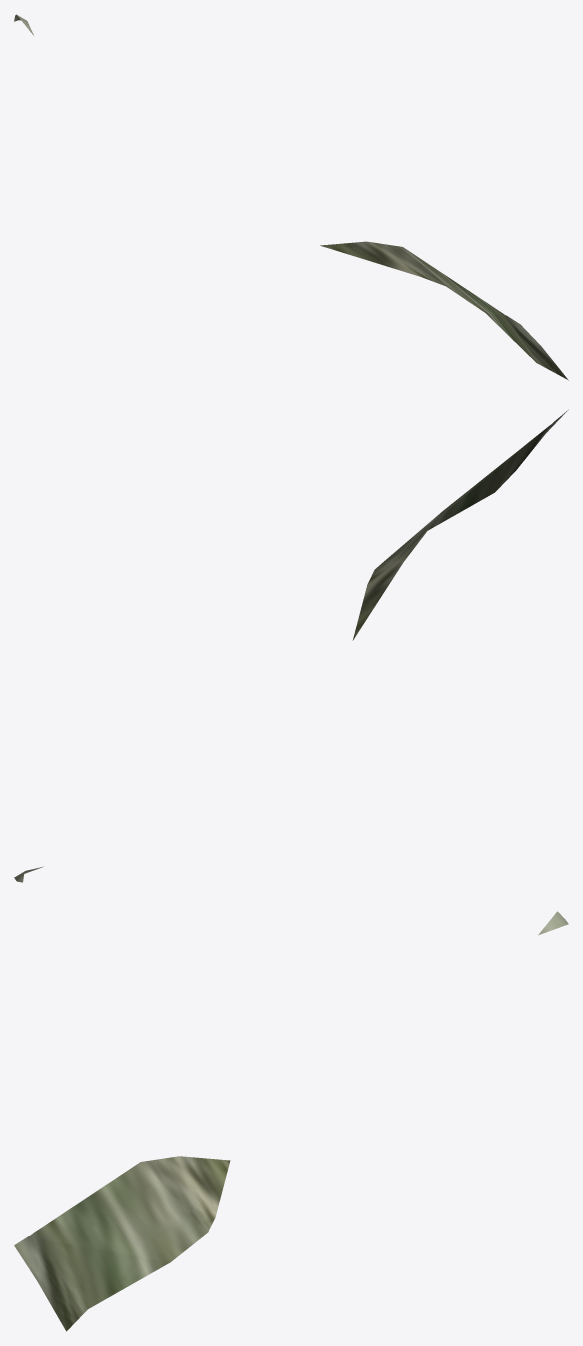
The picture shows the model from 3 angles, top to bottom: view 1: azimuth 30°, elevation 25°; view 2: azimuth 150°, elevation 25°; view 3: azimuth 330°, elevation 25°; orthographic projection. The views are drawn at different scales.
Bounding box in the file's own units: 0.1495 × 0.1767 × 2.38.
1 material, 1 textured.
